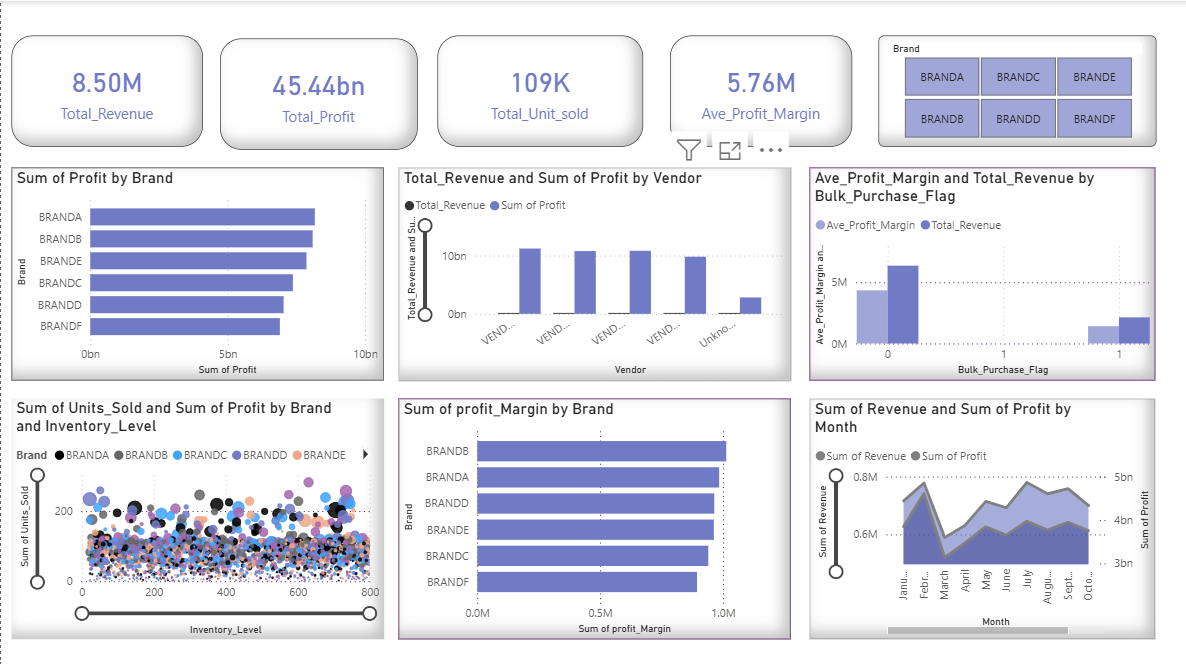

Layout of this report page (visuals, bound fields, positions):
{"tool":"powerbi","page":{"name":"Page 1","canvas":[1280,720],"ordinal":0},"visuals":[{"type":"card","fields":{"Values":["Cleaned_Data.Total_Revenue"]},"box":[11.7,36.7,206.7,120],"z":0},{"type":"card","fields":{"Values":["Cleaned_Data.Total_Profit"]},"box":[236.7,40,213.3,120],"z":1000},{"type":"card","fields":{"Values":["Cleaned_Data.Total_Unit_sold"]},"box":[471.7,36.7,221.7,120],"z":2000},{"type":"card","fields":{"Values":["Cleaned_Data.Ave_Profit_Margin"]},"box":[721.7,36.7,196.7,120],"z":3000},{"type":"clusteredColumnChart","fields":{"Category":["Cleaned_Data.Bulk_Purchase_Flag"],"Y":["Cleaned_Data.Ave_Profit_Margin","Cleaned_Data.Total_Revenue"]},"box":[873.3,180,373.3,230],"z":4000},{"type":"scatterChart","fields":{"X":["Cleaned_Data.Inventory_Level"],"Y":["Sum(Cleaned_Data.Units_Sold)"],"Size":["Sum(Cleaned_Data.Profit)"],"Series":["Cleaned_Data.Brand"]},"box":[11.7,428.3,401.7,260],"z":5000},{"type":"barChart","fields":{"Category":["Cleaned_Data.Brand"],"Y":["Sum(Cleaned_Data.profit_Margin)"]},"box":[428.3,428.3,423.3,260],"z":6000},{"type":"lineChart","fields":{"Category":["Cleaned_Data.Date.Variation.Date Hierarchy.Month"],"Y":["Sum(Cleaned_Data.Revenue)"],"Y2":["Sum(Cleaned_Data.Profit)"]},"box":[873.3,428.3,373.3,260],"z":7000},{"type":"clusteredColumnChart","fields":{"Category":["Cleaned_Data.Vendor"],"Y":["Cleaned_Data.Total_Revenue","Sum(Cleaned_Data.Profit)"]},"box":[428.3,180,423.3,230],"z":8000},{"type":"barChart","fields":{"Category":["Cleaned_Data.Brand"],"Y":["Sum(Cleaned_Data.Profit)"]},"box":[11.7,180,401.7,230],"z":9000},{"type":"slicer","fields":{"Values":["Cleaned_Data.Brand"]},"box":[946.7,36.7,300,120],"z":9001}]}

Visuals, with their boxes in screenshot pixels (x1, y1, x2, y2), scaled from the page's 1280x720 canvas onto the 1186x664 screenshot:
card - Cleaned_Data.Total_Revenue: (11, 34, 202, 145)
card - Cleaned_Data.Total_Profit: (219, 37, 417, 148)
card - Cleaned_Data.Total_Unit_sold: (437, 34, 642, 145)
card - Cleaned_Data.Ave_Profit_Margin: (669, 34, 851, 145)
clusteredColumnChart - Cleaned_Data.Bulk_Purchase_Flag x Cleaned_Data.Ave_Profit_Margin: (809, 166, 1155, 378)
scatterChart - Cleaned_Data.Inventory_Level x Sum(Cleaned_Data.Units_Sold): (11, 395, 383, 635)
barChart - Cleaned_Data.Brand x Sum(Cleaned_Data.profit_Margin): (397, 395, 789, 635)
lineChart - Cleaned_Data.Date.Variation.Date Hierarchy.Month x Sum(Cleaned_Data.Revenue): (809, 395, 1155, 635)
clusteredColumnChart - Cleaned_Data.Vendor x Cleaned_Data.Total_Revenue: (397, 166, 789, 378)
barChart - Cleaned_Data.Brand x Sum(Cleaned_Data.Profit): (11, 166, 383, 378)
slicer - Cleaned_Data.Brand: (877, 34, 1155, 145)
